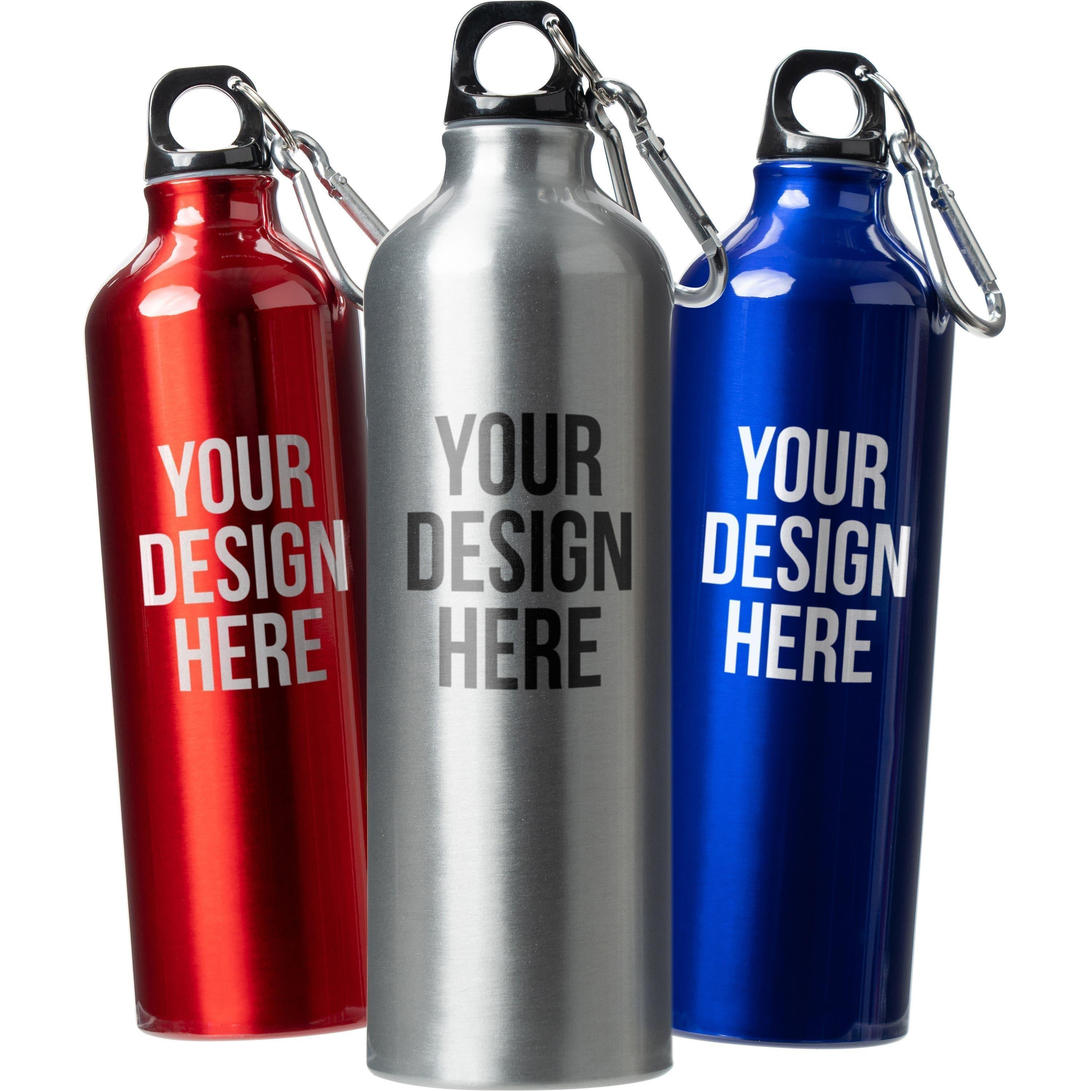gym bottle: (354, 2, 682, 1090), (663, 46, 979, 1057), (77, 62, 372, 1047)
